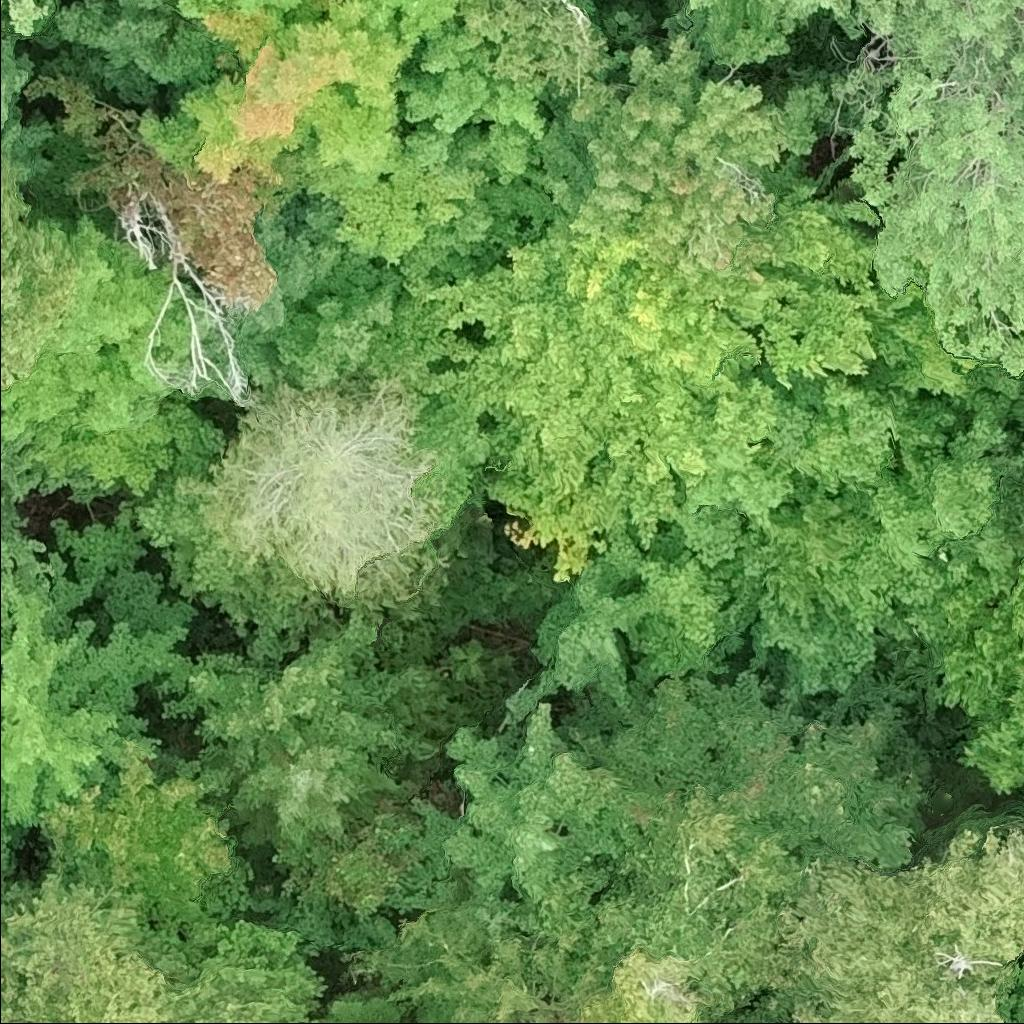crown: (54, 0, 555, 299), (419, 218, 785, 499), (185, 370, 448, 631), (0, 211, 233, 502), (535, 34, 791, 291), (41, 75, 290, 307), (849, 44, 1023, 376), (0, 553, 192, 853), (221, 191, 480, 408), (769, 825, 1023, 1023), (184, 608, 447, 775), (438, 670, 625, 895), (36, 739, 240, 936), (0, 866, 220, 1023), (864, 387, 1022, 560), (603, 522, 755, 688), (751, 0, 1023, 76), (530, 554, 653, 707), (666, 442, 799, 575), (0, 159, 72, 393), (760, 375, 900, 494), (469, 0, 602, 124), (188, 917, 328, 1023), (574, 946, 696, 1023), (324, 987, 406, 1023), (0, 0, 56, 35), (679, 0, 732, 14), (1017, 964, 1023, 989)
